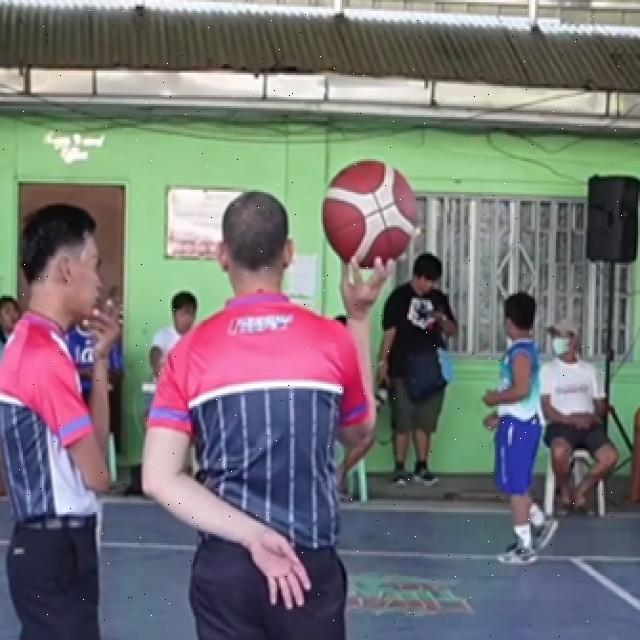ball: (316, 154, 424, 284)
